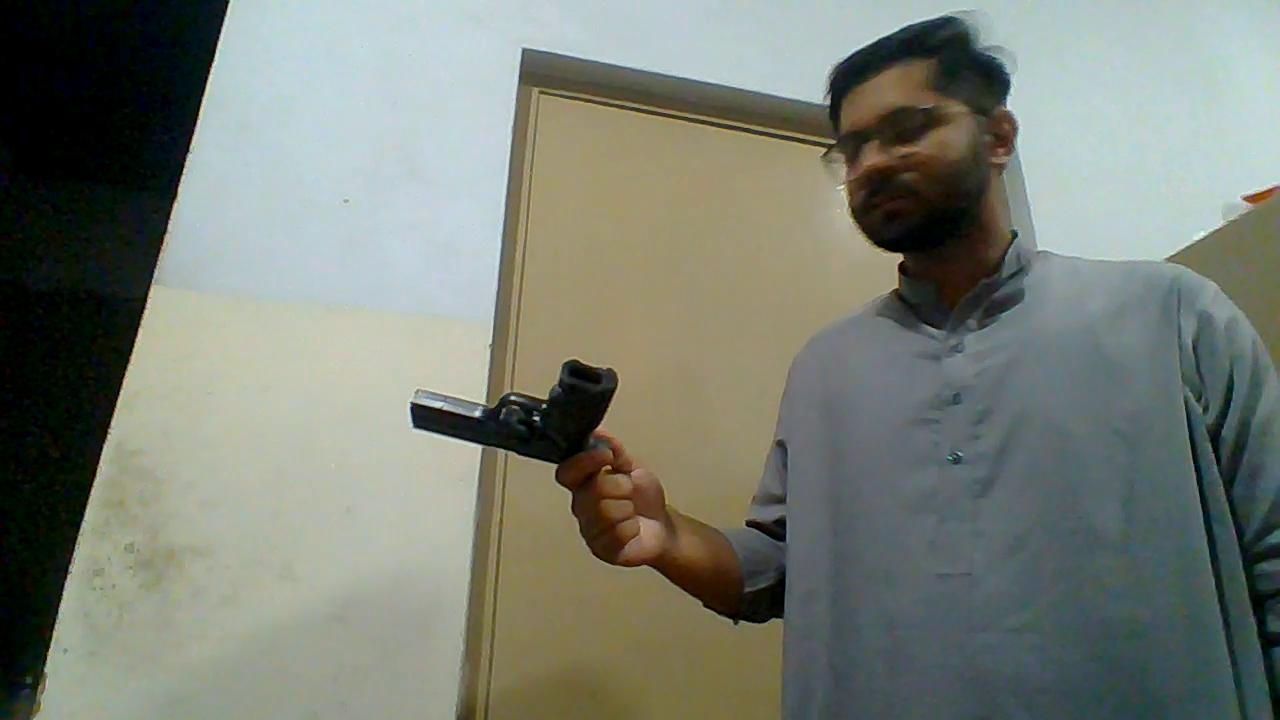criminal: (407, 12, 1280, 720)
weapon: (409, 354, 622, 466)
